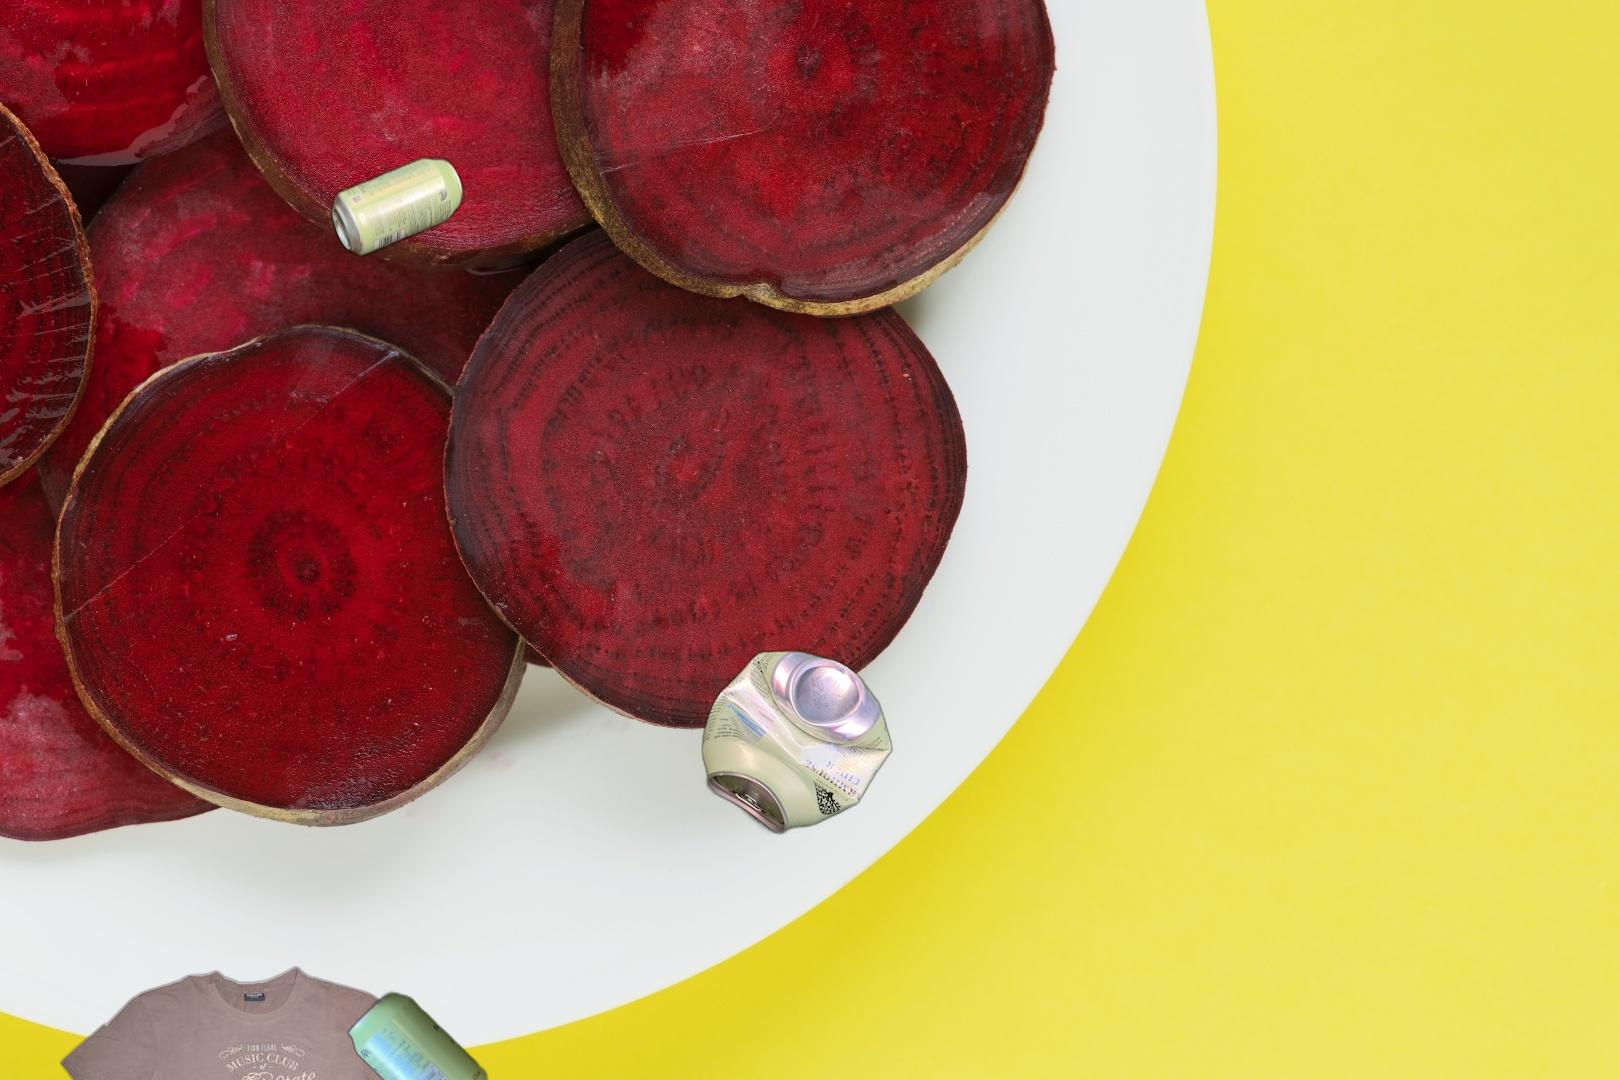clothes: (59, 962, 448, 1080)
glass: (1434, 658, 1620, 1080)
metal-cans: (697, 644, 897, 840), (327, 151, 468, 262), (344, 986, 492, 1080)
